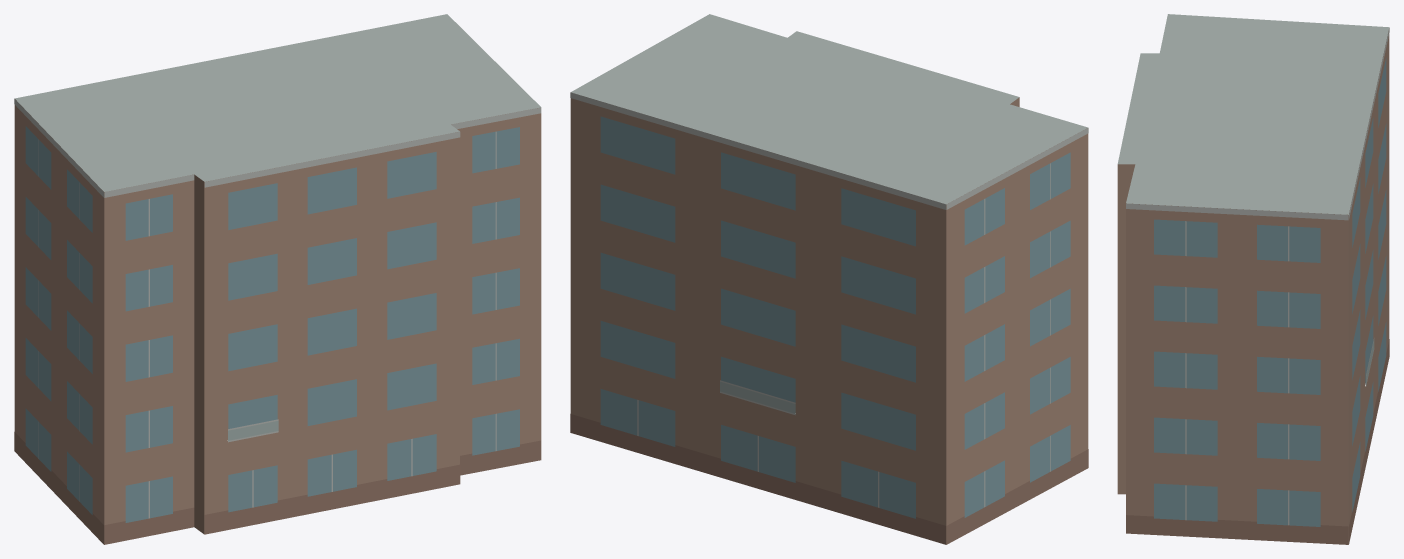
The model's file is survey-upis-33040923.glb.
3 views of the same model, side by side, from view 1: azimuth 30°, elevation 25°; view 2: azimuth 150°, elevation 25°; view 3: azimuth 270°, elevation 25° (orthographic). The views are drawn at different scales.
Parts seen in each view (by area): view 1: survey-upis-33040923.tmp; view 2: survey-upis-33040923.tmp; view 3: survey-upis-33040923.tmp.
Part boxes in pixels (box(x1,y1,x2,y2)): survey-upis-33040923.tmp: box(14, 14, 541, 544); survey-upis-33040923.tmp: box(570, 14, 1088, 544); survey-upis-33040923.tmp: box(1117, 14, 1389, 544).
Size of the model in its own units: 18.93 by 14.5 by 10.83.
